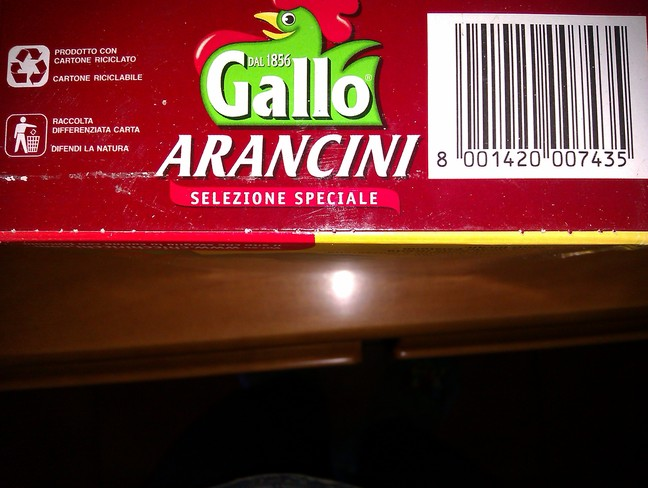barcode: (434, 15, 640, 182)
